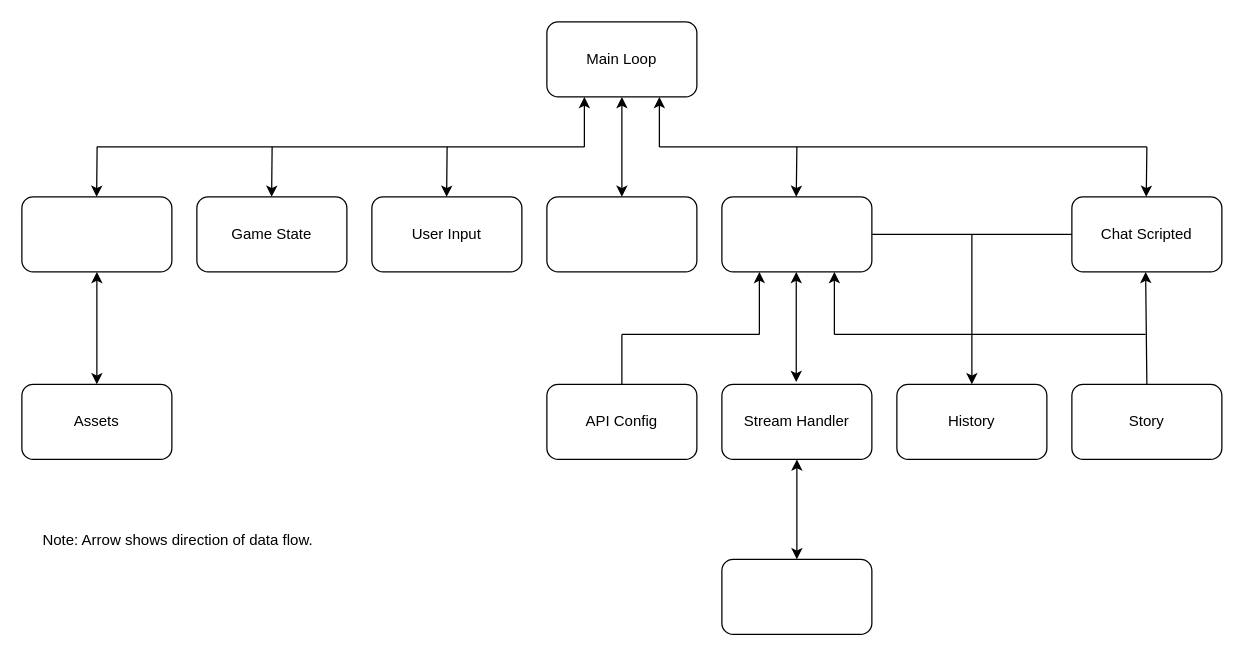
The diagram is 1244 pixels wide and 656 high, and some of its shapes have lost their labels. Each missing label, with the centre of its shape:
"Chat LLM" belongs at [796,234].
"Pygame" belongs at [621,234].
"Python OpenAI" belongs at [796,596].
"Screen" belongs at [96,234].
